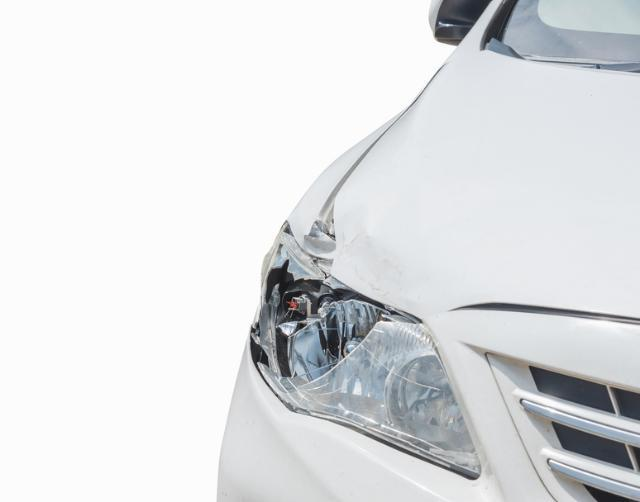Light: (243, 205, 387, 373)
